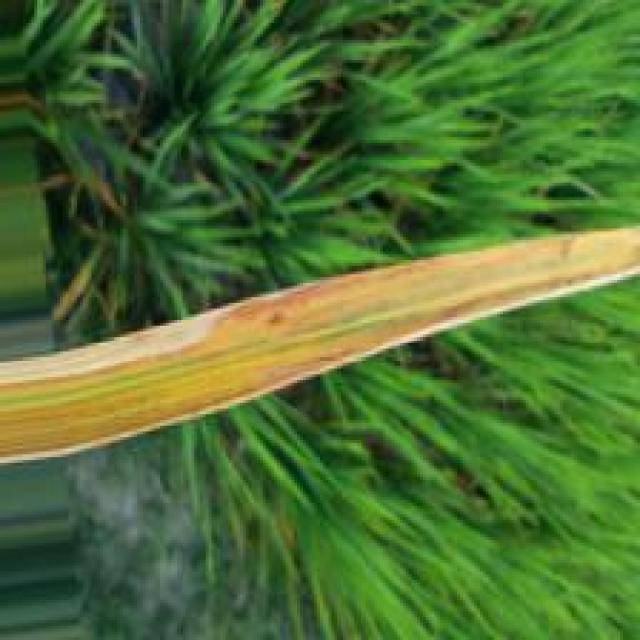Bacterial_Leaf_Blight: (10, 213, 640, 462), (0, 283, 331, 387)
